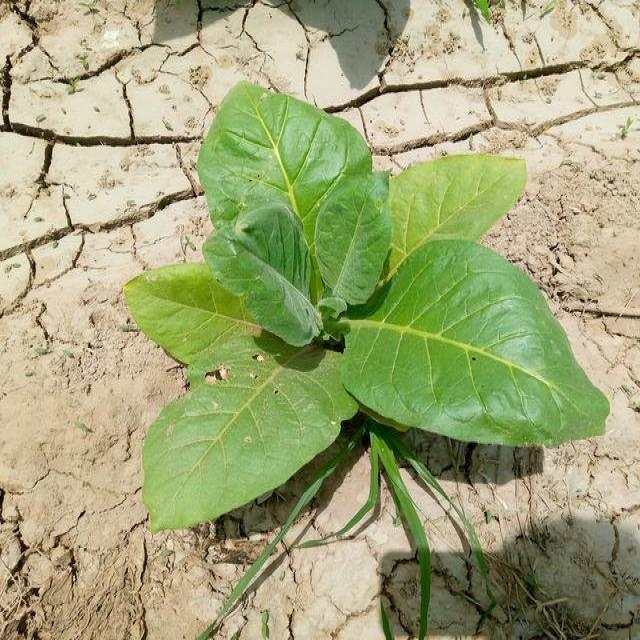crop: (127, 77, 581, 535)
